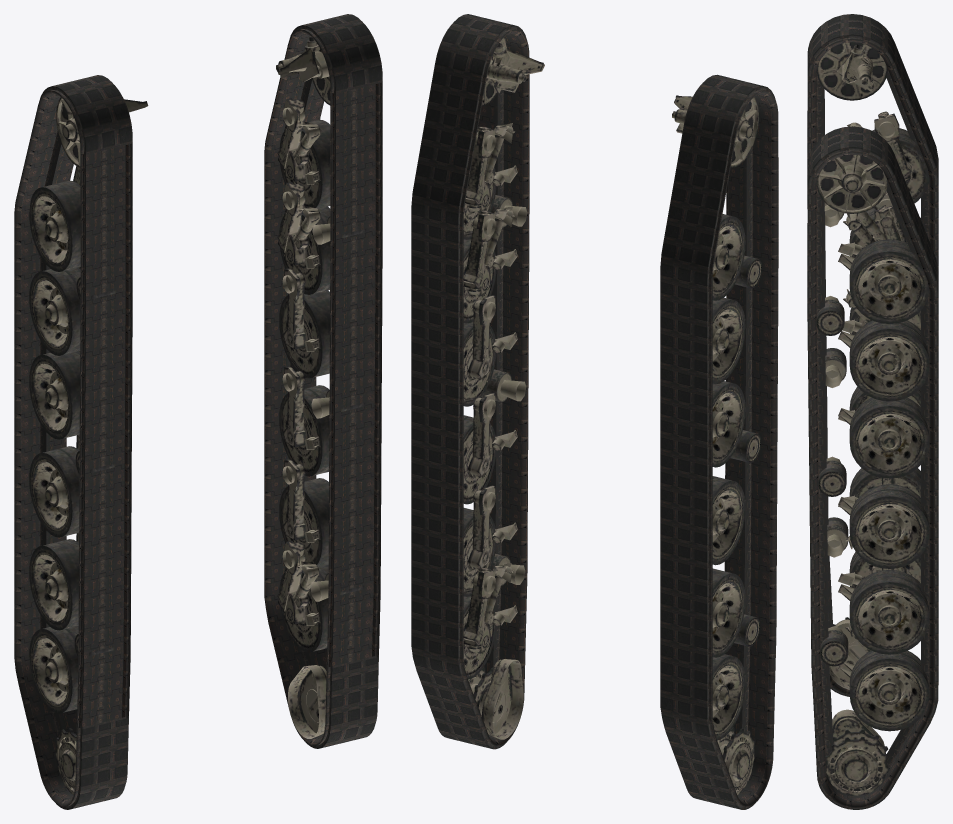
File: Chassis.glb
3 renders of one model, left to right at view 1: azimuth 30°, elevation 25°; view 2: azimuth 150°, elevation 25°; view 3: azimuth 270°, elevation 25°, orthographic. The views are drawn at different scales.
Parts seen in each view (by area): view 1: set_0_group_0, set_1_group_0, set_3_group_0, set_2_group_0; view 2: set_0_group_0, set_1_group_0, set_3_group_0, set_2_group_0; view 3: set_3_group_0, set_1_group_0, set_2_group_0, set_0_group_0.
Boxes of the visible parts, bbox=[...] form: set_0_group_0: bbox=[14, 75, 132, 809]; set_1_group_0: bbox=[264, 14, 382, 748]; set_3_group_0: bbox=[276, 36, 366, 738]; set_2_group_0: bbox=[29, 97, 148, 794]; set_0_group_0: bbox=[660, 74, 778, 809]; set_1_group_0: bbox=[411, 14, 529, 749]; set_3_group_0: bbox=[463, 37, 544, 739]; set_2_group_0: bbox=[672, 95, 761, 794]; set_3_group_0: bbox=[816, 154, 929, 795]; set_1_group_0: bbox=[807, 126, 938, 809]; set_2_group_0: bbox=[816, 42, 929, 689]; set_0_group_0: bbox=[807, 14, 938, 696].
Size of the model in its own units: 3.05 by 6.95 by 1.25.
Materials: 4 (4 with a texture image).
